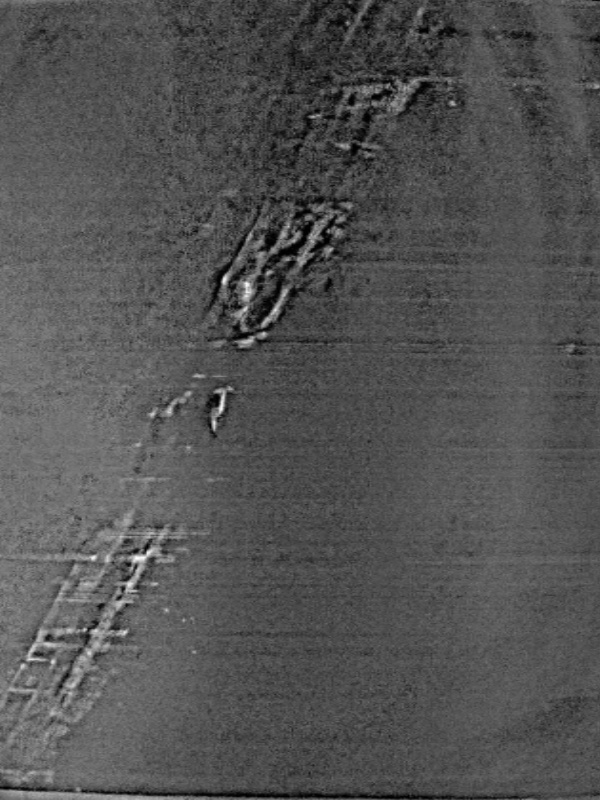splice_vulcanized: (2, 2, 429, 784)
